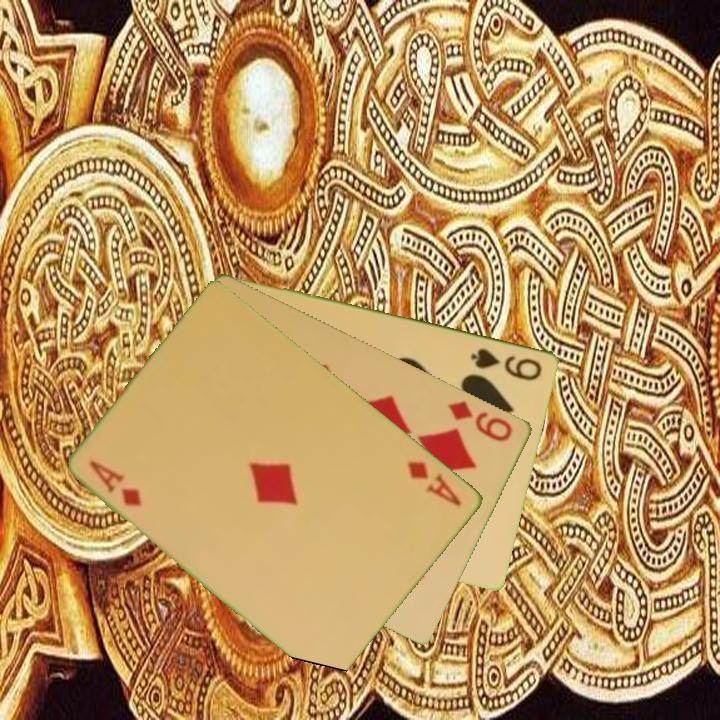9d: (444, 397, 516, 445)
9s: (468, 344, 546, 384)
Ad: (404, 457, 466, 510), (86, 456, 146, 509)
